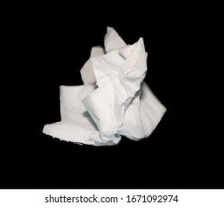tissue: (37, 21, 172, 150)
